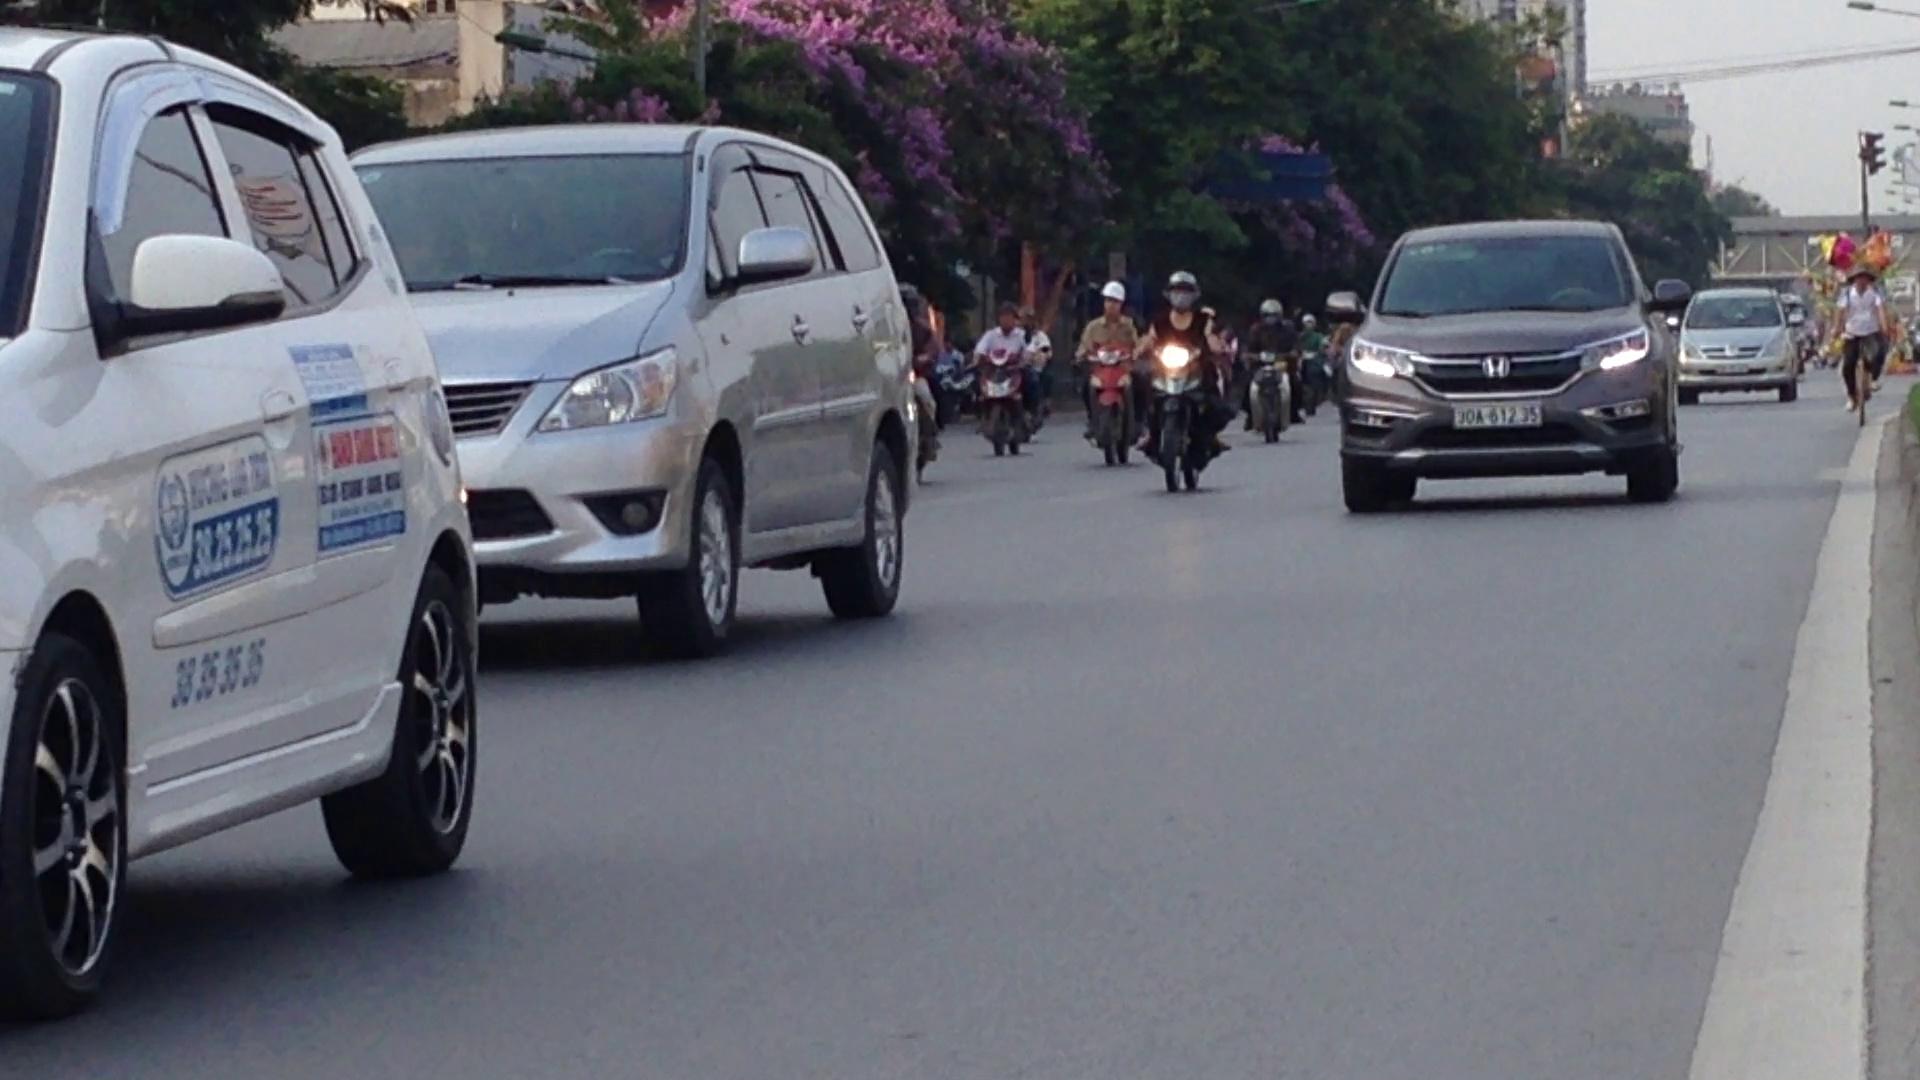person: (1447, 396, 1547, 429)
